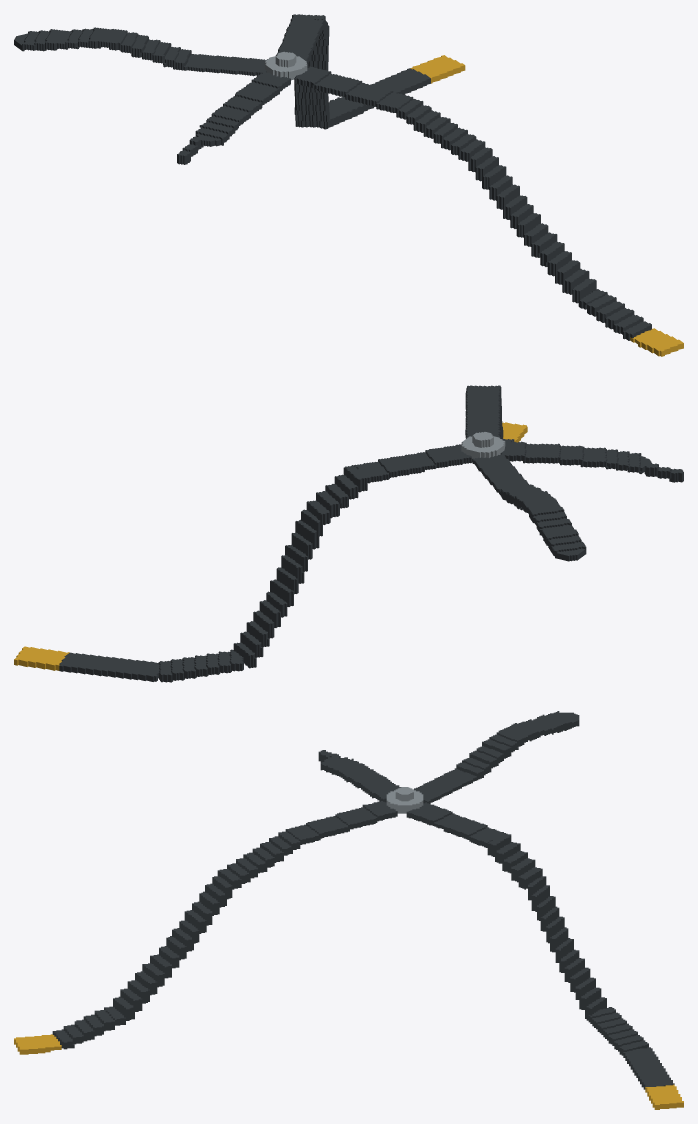
The model's file is crashed_military_helicopter_main_rotor.glb.
The picture shows the model from 3 angles, top to bottom: view 1: azimuth 30°, elevation 25°; view 2: azimuth 150°, elevation 25°; view 3: azimuth 270°, elevation 25°; orthographic projection. The views are drawn at different scales.
Parts seen in each view (by area): view 1: body:compound; view 2: body:compound; view 3: body:compound.
Part boxes in pixels (x1=…): body:compound: x1=14, y1=14, x2=683, y2=356; body:compound: x1=14, y1=385, x2=683, y2=682; body:compound: x1=14, y1=711, x2=683, y2=1109.
Size of the model in its own units: 9.09 by 3.41 by 11.41.
